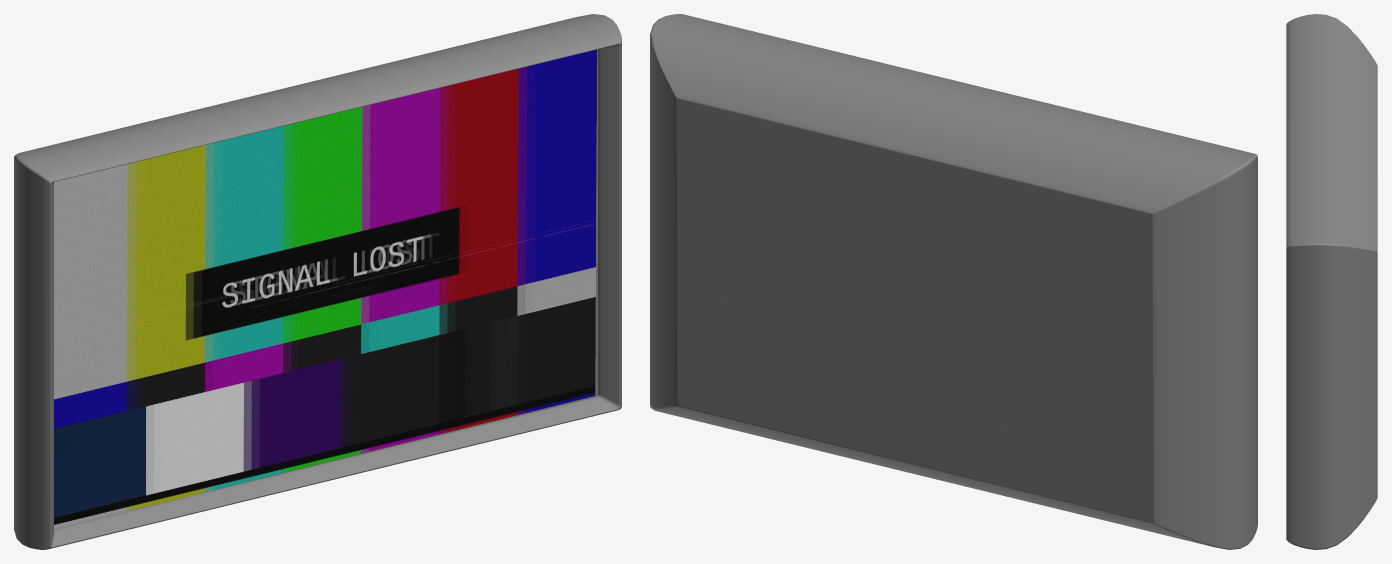
3 renders of one model, left to right at view 1: azimuth 30°, elevation 25°; view 2: azimuth 150°, elevation 25°; view 3: azimuth 270°, elevation 25°, orthographic. The views are drawn at different scales.
Parts seen in each view (by area): view 1: Television3; view 2: Television3; view 3: Television3.
Part boxes in pixels (bbox=[...]): Television3: bbox=[14, 14, 621, 549]; Television3: bbox=[650, 14, 1257, 549]; Television3: bbox=[1286, 14, 1377, 549].
Size of the model in its own units: 5.1 by 0.8547 by 3.16.
Materials: 2 (1 with a texture image).
